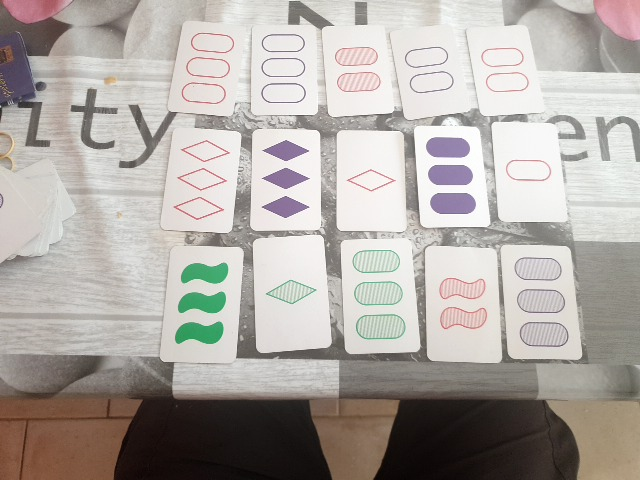1ED: (339, 133, 402, 227)
1EP: (500, 126, 555, 218)
1HD: (257, 239, 323, 344)
2EP: (402, 34, 455, 105), (478, 37, 530, 108)
2HP: (330, 28, 384, 111)
2HW: (430, 249, 495, 360)
3ED: (174, 133, 231, 228)
3EP: (255, 28, 314, 112), (181, 28, 235, 108)
3FD: (254, 132, 319, 227)
3FP: (422, 129, 480, 223)
3FW: (172, 249, 234, 358)
3HP: (347, 242, 411, 350), (511, 249, 570, 356)
